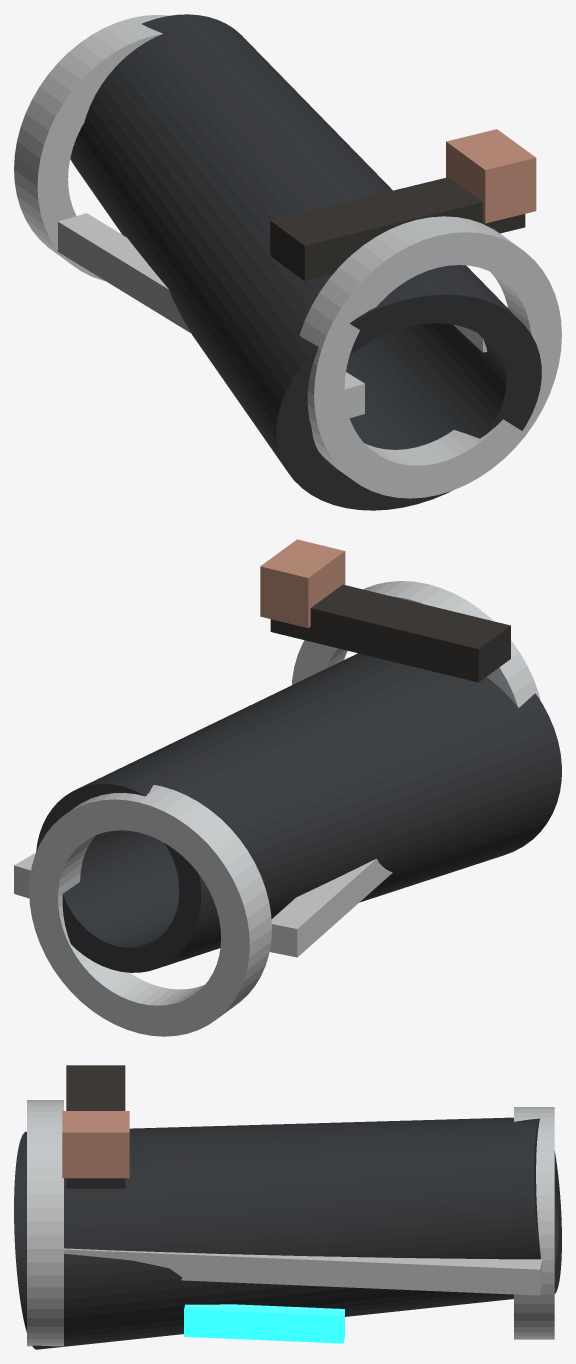
Rendered from night_current_forearm_guard_v01.glb.
The picture shows the model from 3 angles, top to bottom: view 1: azimuth 30°, elevation 25°; view 2: azimuth 150°, elevation 25°; view 3: azimuth 270°, elevation 25°; orthographic projection. The views are drawn at different scales.
Visible parts, largest first — view 1: forearm_shell, elbow_ring, wrist_ring, rear_strap, silver_rail_inner, rear_buckle; view 2: forearm_shell, wrist_ring, rear_strap, rear_buckle, silver_rail_inner, elbow_ring, silver_rail_outer; view 3: forearm_shell, silver_rail_outer, elbow_ring, cyan_indicator, wrist_ring, rear_buckle, rear_strap.
Boxes of the visible parts, left/top/right/bottom form: forearm_shell: left=70, top=14, right=541, bottom=510; elbow_ring: left=299, top=216, right=561, bottom=498; wrist_ring: left=14, top=15, right=169, bottom=280; rear_strap: left=270, top=177, right=525, bottom=280; silver_rail_inner: left=58, top=213, right=364, bottom=417; rear_buckle: left=446, top=129, right=536, bottom=223; forearm_shell: left=36, top=653, right=561, bottom=972; wrist_ring: left=29, top=785, right=271, bottom=1036; rear_strap: left=270, top=584, right=510, bottom=682; rear_buckle: left=260, top=539, right=345, bottom=627; silver_rail_inner: left=269, top=858, right=392, bottom=957; elbow_ring: left=292, top=581, right=540, bottom=707; silver_rail_outer: left=14, top=852, right=35, bottom=898; forearm_shell: left=14, top=1117, right=561, bottom=1349; silver_rail_outer: left=64, top=1248, right=542, bottom=1295; elbow_ring: left=27, top=1100, right=63, bottom=1346; cyan_indicator: left=184, top=1304, right=344, bottom=1343; wrist_ring: left=514, top=1107, right=554, bottom=1339; rear_buckle: left=62, top=1111, right=129, bottom=1178; rear_strap: left=66, top=1065, right=125, bottom=1188.
Size of the model in its own units: 0.1727 by 0.1728 by 0.3251.
